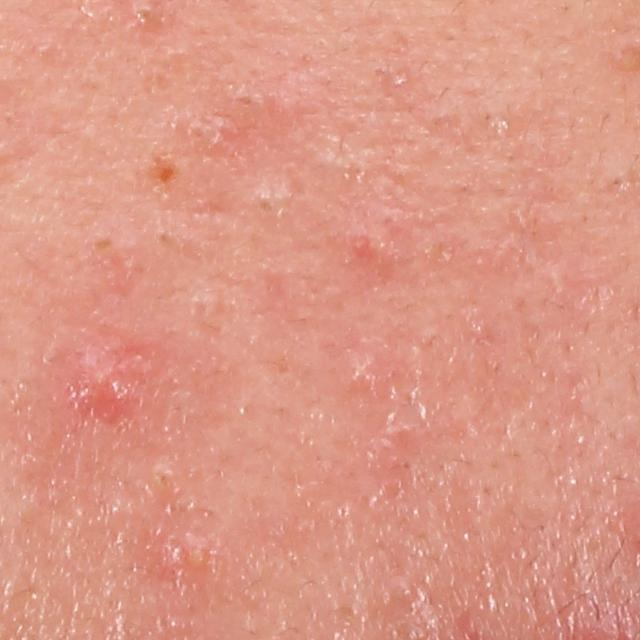comedo: (257, 193, 280, 220)
